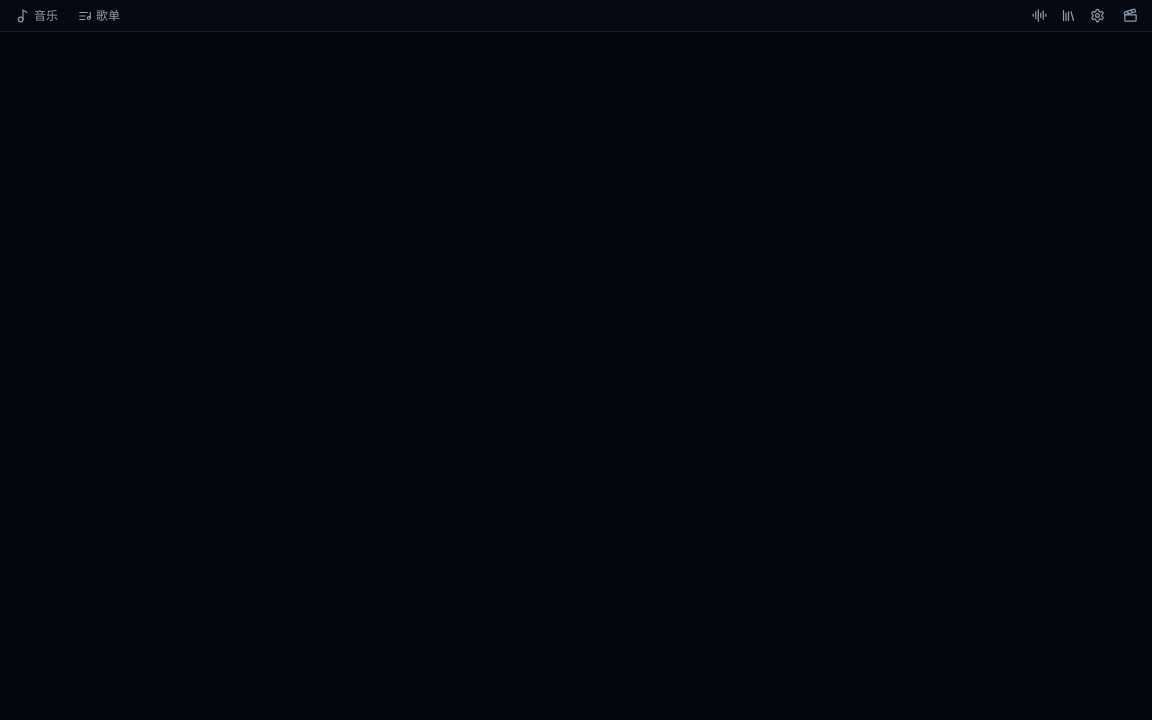
music toolbar entry (QYP3-068v) › opens the panel from the toolbar button
Click the button named "音效调节".
click(1040, 16)  # box x1=1026 y1=2 x2=1053 y2=29
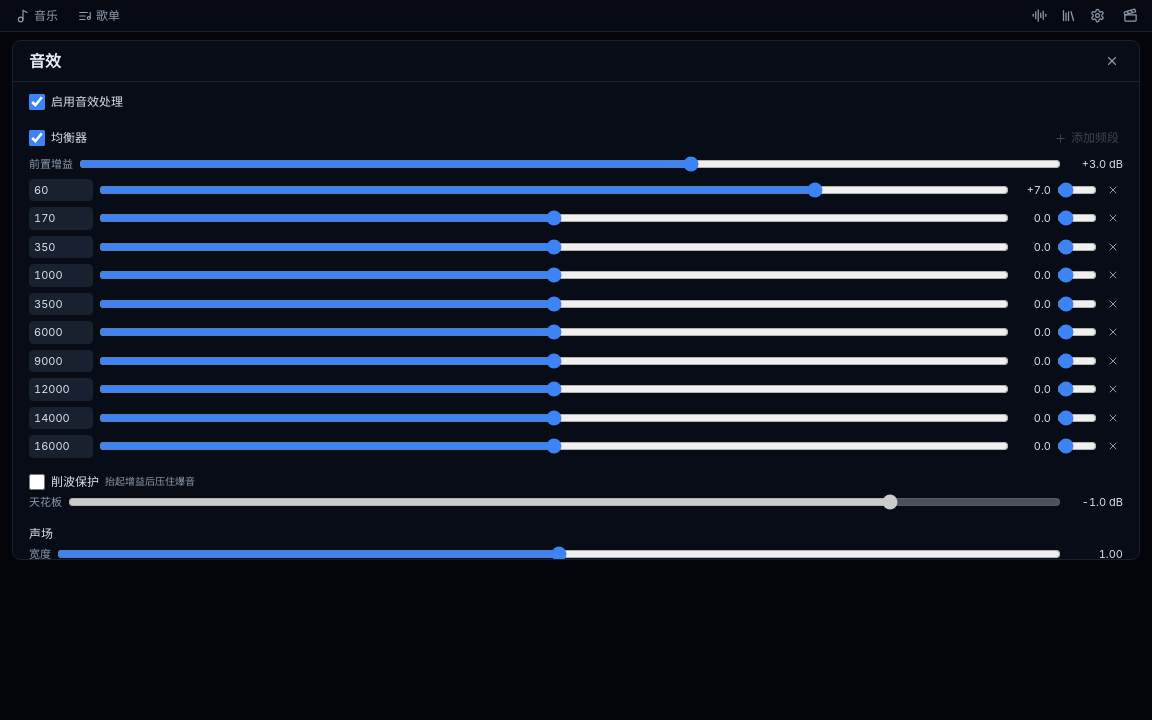
expect the dialog named "音效调节" is shown: met
 关闭后面板撤掉
Click the button named "关闭音效面板".
click(1112, 61)  # box x1=1101 y1=50 x2=1123 y2=72
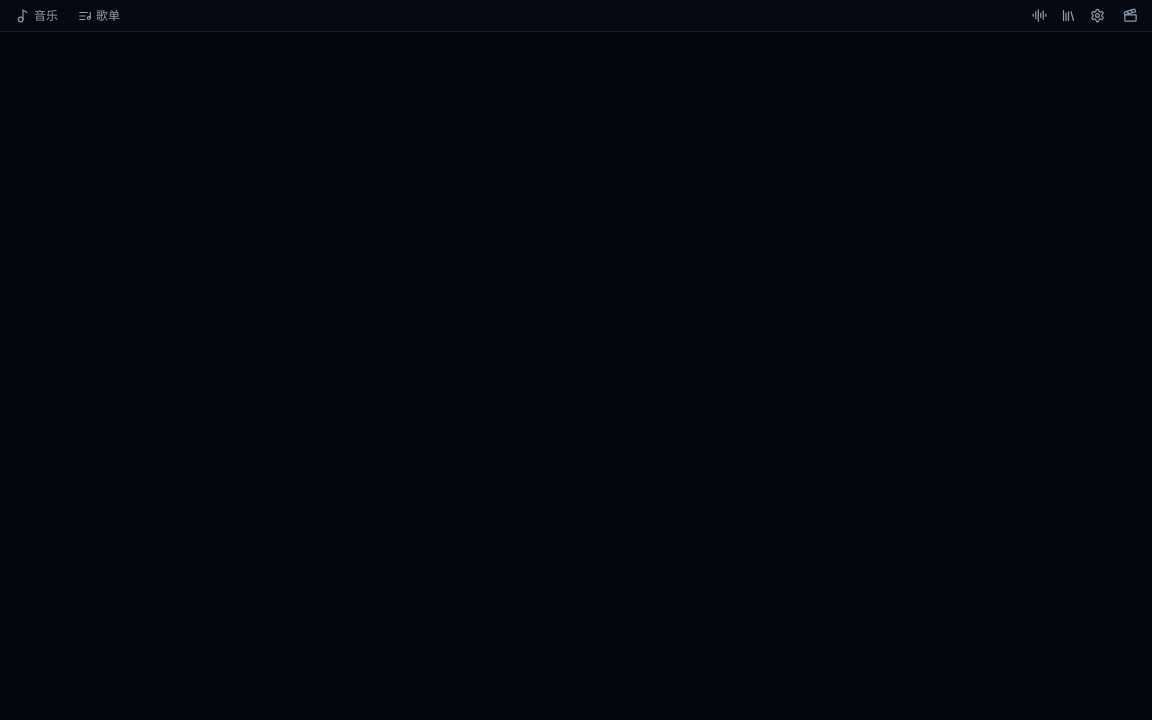
expect the dialog is gone: met
